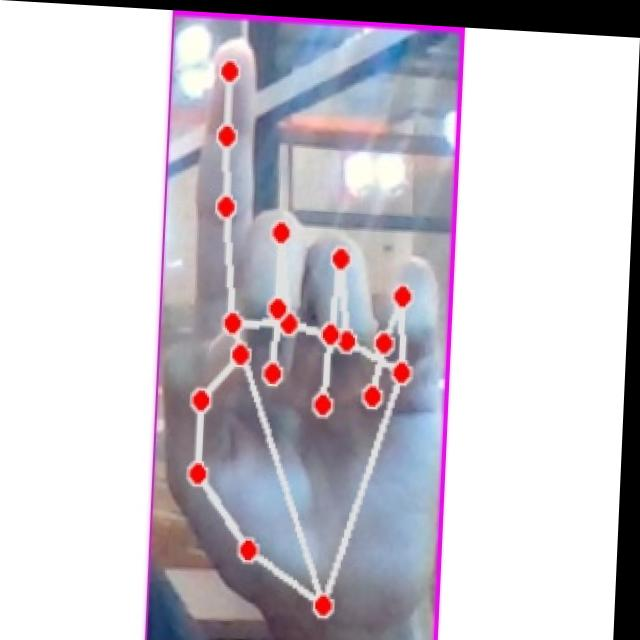D: (159, 22, 453, 637)
